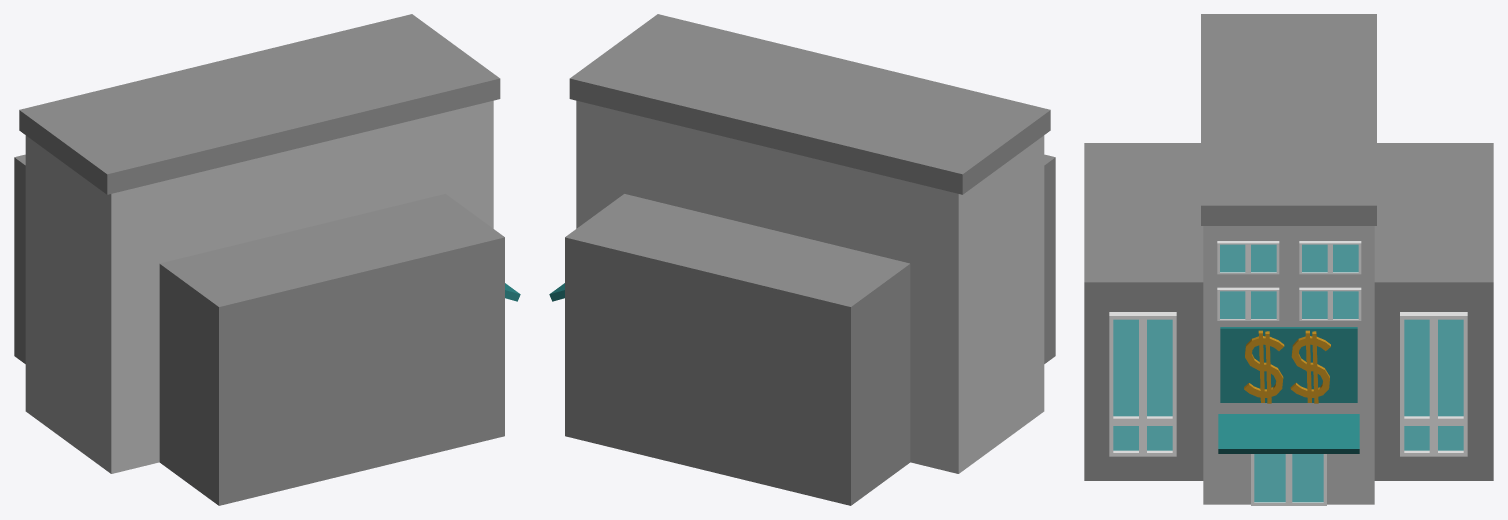
File: bank.fbx
3 renders of one model, left to right at view 1: azimuth 30°, elevation 25°; view 2: azimuth 150°, elevation 25°; view 3: azimuth 270°, elevation 25°, orthographic.
Visible parts, largest first — view 1: Plane; view 2: Plane; view 3: Plane.
Part boxes in pixels (left/top/right/bottom): Plane: left=14, top=14, right=520, bottom=505; Plane: left=549, top=14, right=1055, bottom=505; Plane: left=1084, top=14, right=1493, bottom=505.
Size of the model in its own units: 2361 by 1614 by 1984.
